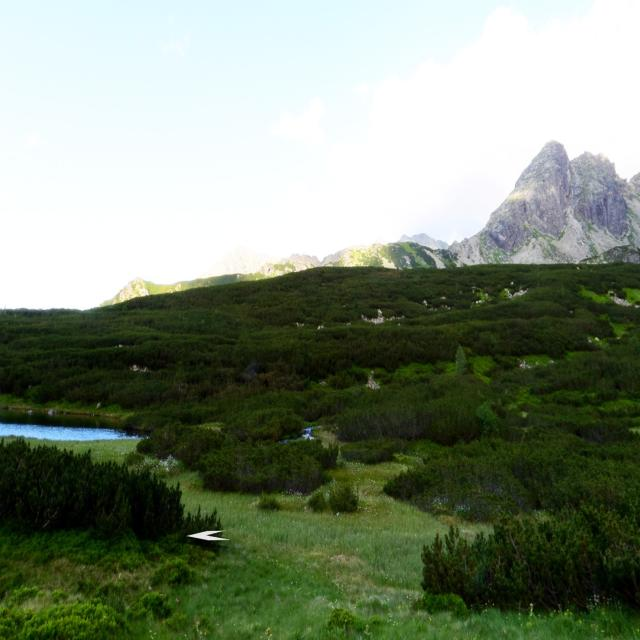Koscielec: (459, 65, 640, 225)
